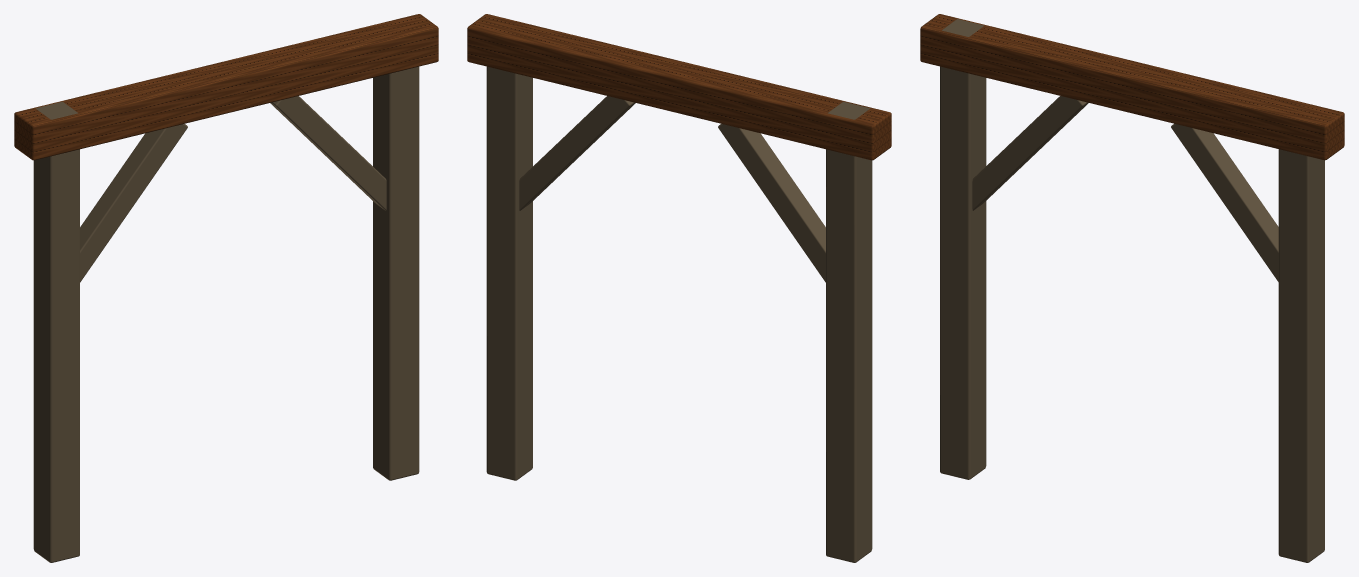
The model's file is undercity-sewers-and-thieves-den-timber-shoring-set-da9f1d44__27221.glb.
3 views of the same model, side by side, from view 1: azimuth 30°, elevation 25°; view 2: azimuth 150°, elevation 25°; view 3: azimuth 330°, elevation 25° (orthographic).
Visible parts, largest first — view 1: timber-shoring-set; view 2: timber-shoring-set; view 3: timber-shoring-set.
Boxes of the visible parts, x1=… form: timber-shoring-set: x1=14, y1=14, x2=438, y2=562; timber-shoring-set: x1=467, y1=14, x2=891, y2=562; timber-shoring-set: x1=920, y1=14, x2=1344, y2=562.
Size of the model in its own units: 2.4 by 2.5 by 0.2001.
2 materials, 1 textured.
